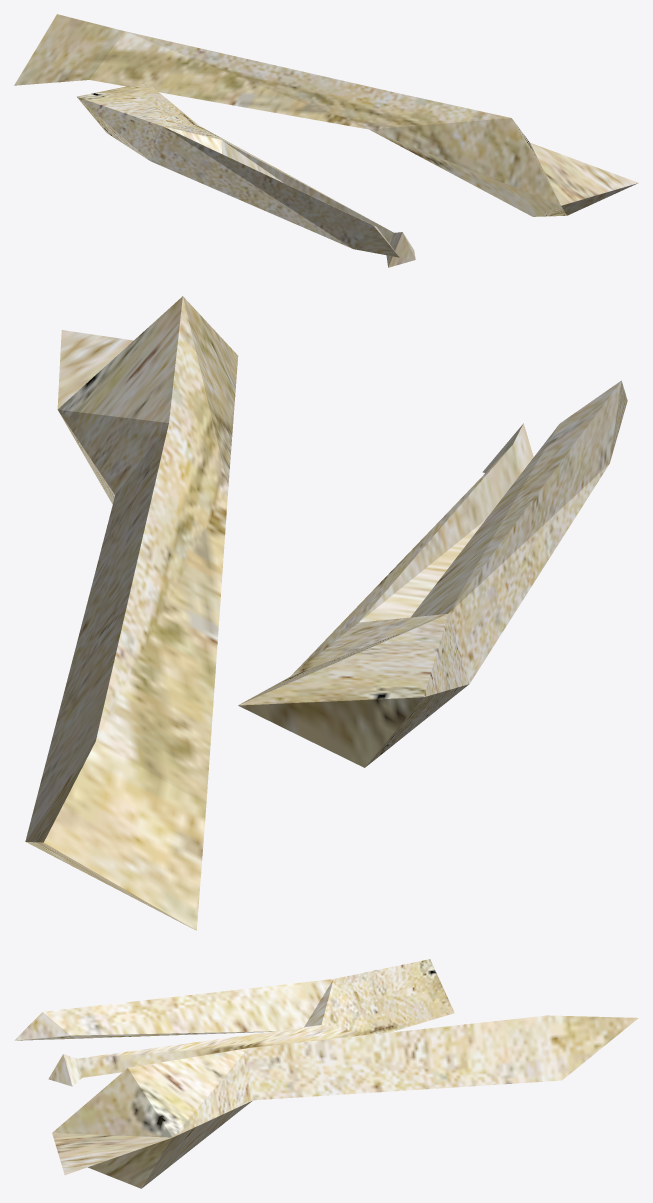
The model's file is poi_tato_skel_krayt_leg_s01_l2.fbx.
3 views of the same model, one above another, from view 1: azimuth 30°, elevation 25°; view 2: azimuth 150°, elevation 25°; view 3: azimuth 270°, elevation 25° (orthographic). The views are drawn at different scales.
Parts seen in each view (by area): view 1: mesh_node; view 2: mesh_node; view 3: mesh_node.
Part boxes in pixels (left/top/right/bottom): mesh_node: left=14, top=14, right=638, bottom=267; mesh_node: left=25, top=296, right=627, bottom=930; mesh_node: left=14, top=959, right=638, bottom=1188.
Bounding box in the file's own units: 3.3 × 0.9354 × 4.92.
2 materials, 2 textured.
